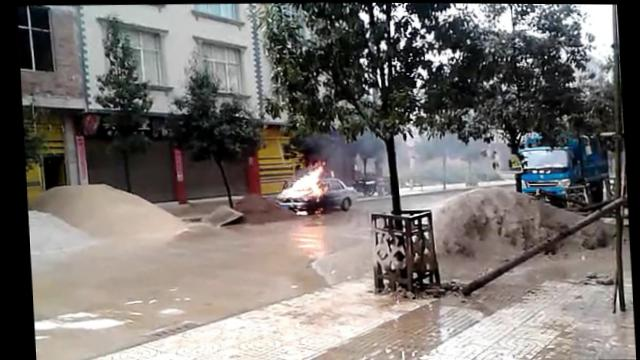fire: (291, 176, 318, 189), (304, 165, 324, 175)
